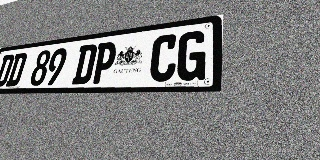8: (28, 49, 53, 86)
9: (43, 47, 69, 85)
C: (148, 33, 179, 82)
D: (71, 44, 98, 84), (5, 52, 28, 87), (0, 54, 15, 87)
G: (175, 30, 208, 81)
P: (90, 41, 118, 84)
